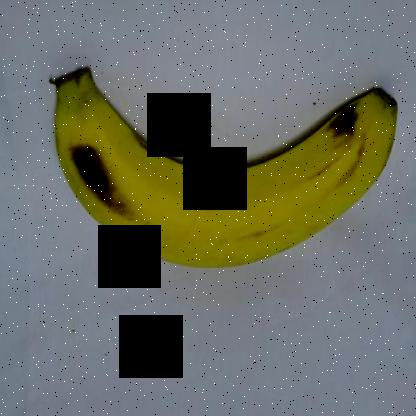freshripe: (43, 45, 411, 307)
